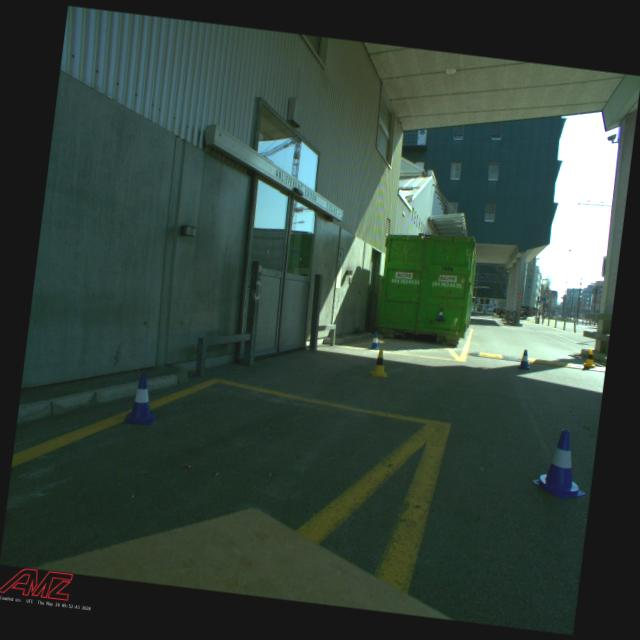blue_cone: (530, 426, 594, 502), (122, 372, 163, 427), (516, 348, 532, 369), (368, 332, 381, 350), (436, 308, 445, 321)
yellow_cone: (368, 348, 391, 378), (582, 348, 598, 368)
